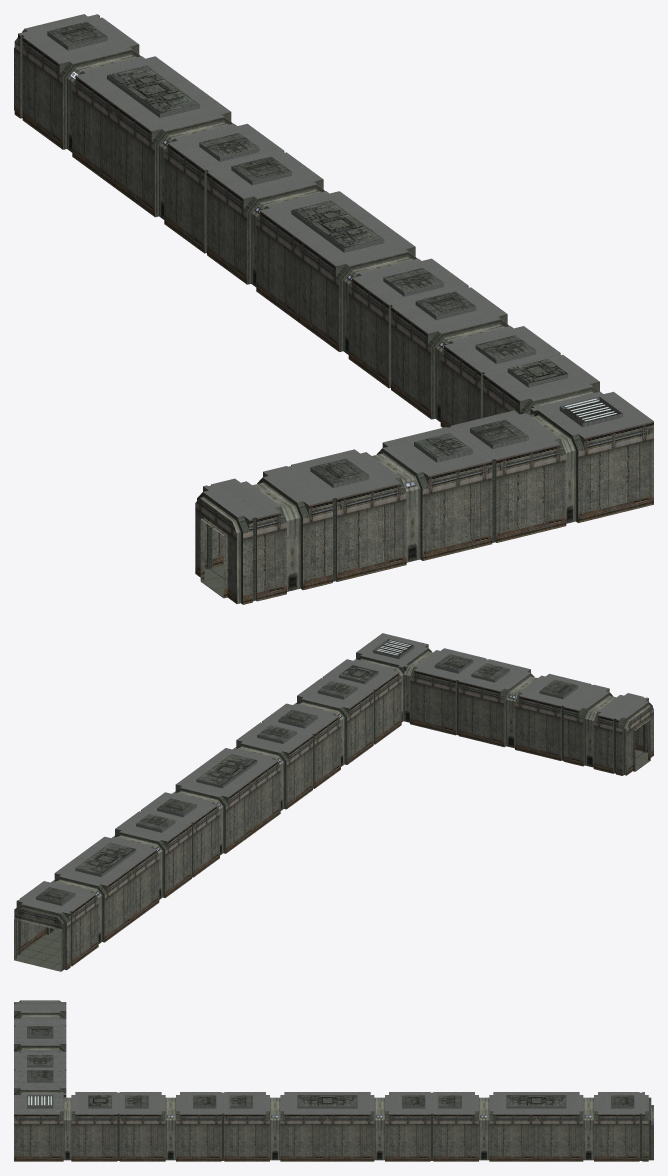
The model's file is poi_all_impl_bunker_crimelord_retreat_s01_r28_hallway08_mesh_r28.fbx.
The picture shows the model from 3 angles, top to bottom: view 1: azimuth 30°, elevation 25°; view 2: azimuth 150°, elevation 25°; view 3: azimuth 270°, elevation 25°; orthographic projection. The views are drawn at different scales.
Visible parts, largest first — view 1: mesh_node; view 2: mesh_node; view 3: mesh_node.
Part boxes in pixels (x1,y1,x2,y2): mesh_node: (14, 14, 653, 604); mesh_node: (14, 633, 653, 971); mesh_node: (14, 1000, 653, 1161).
Size of the model in its own units: 21 by 4.2 by 49.
